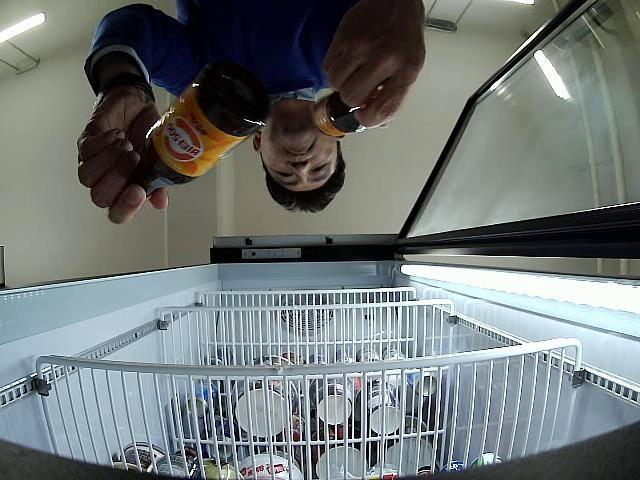17_vita500: (129, 68, 268, 189), (312, 83, 382, 137)
